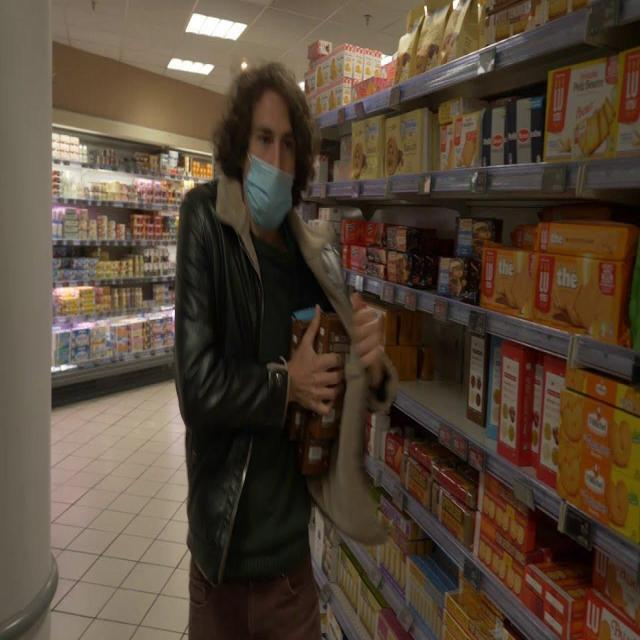Shoplifting: (172, 39, 394, 640)
